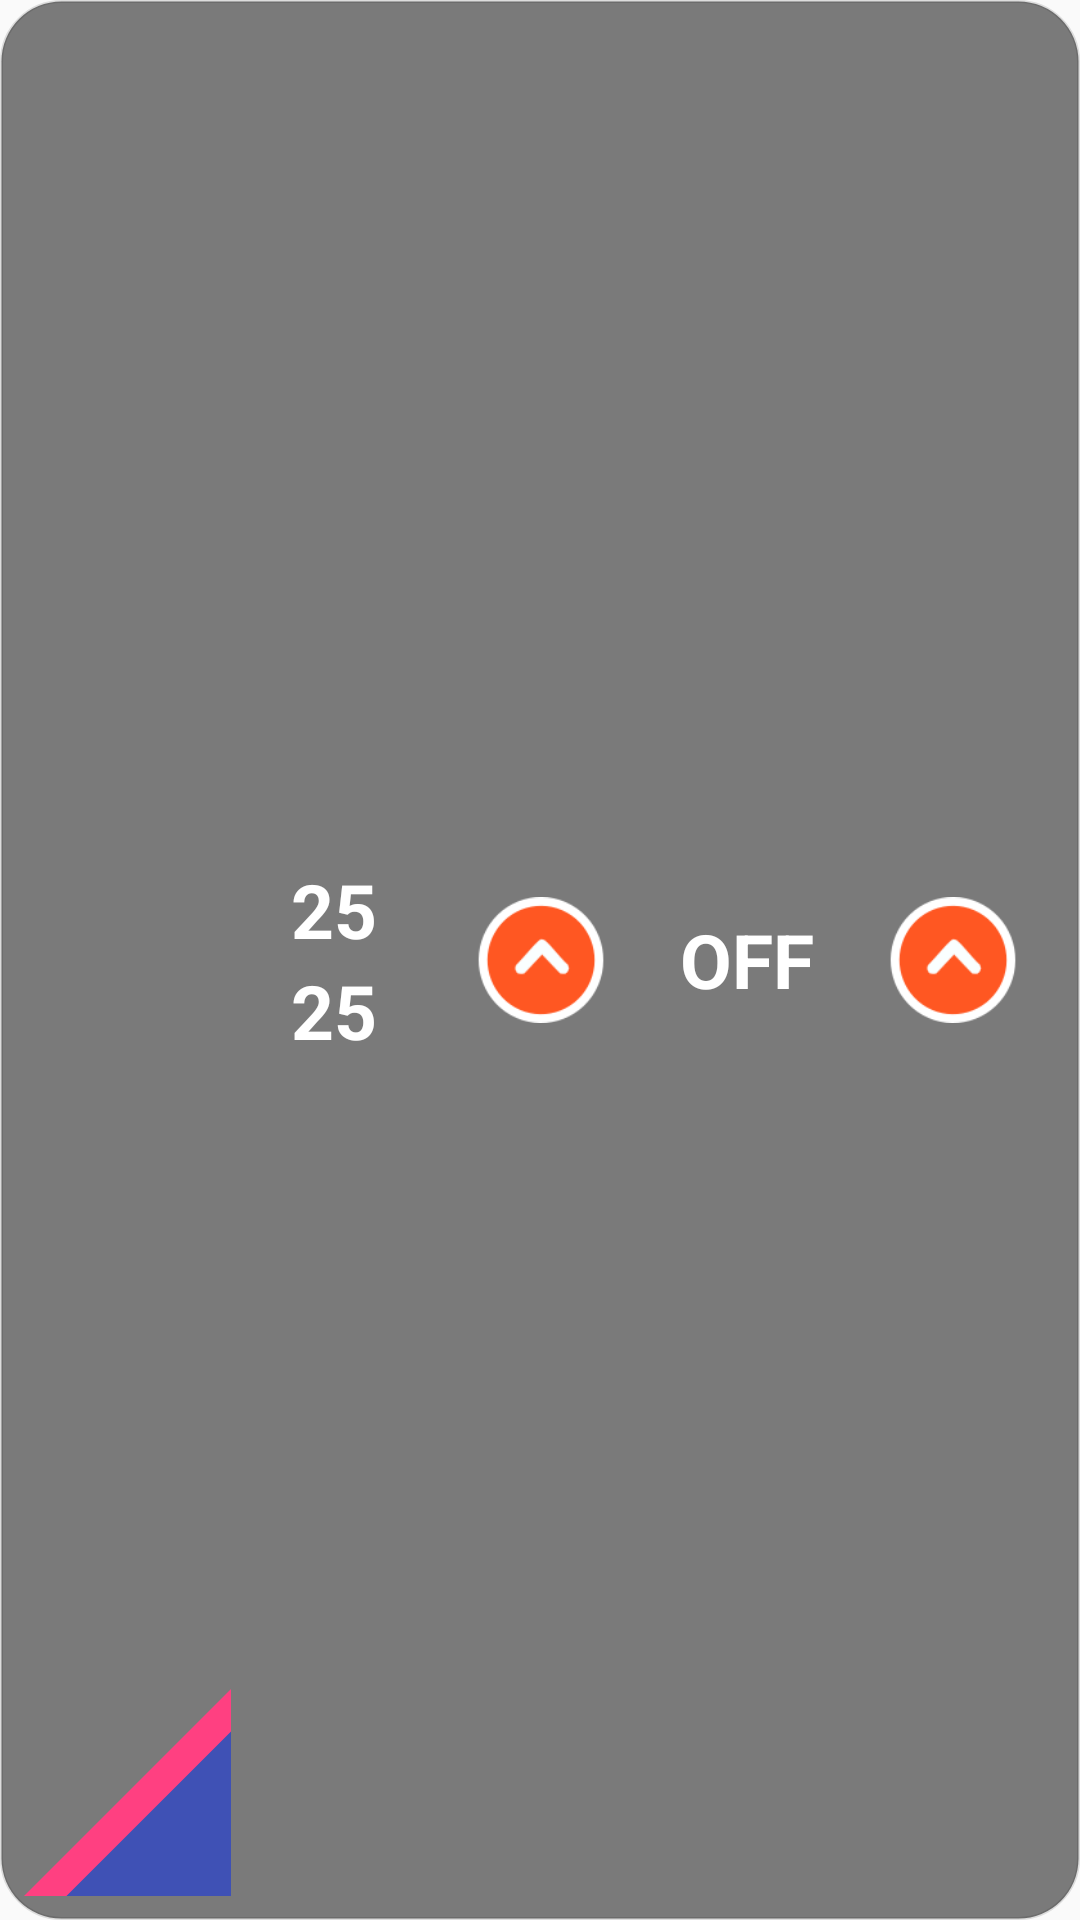

Locate icon controls on the screen. Image size 1080 x 1920, boxes as (x1, y1, x2, y2).
arrow: (478, 897, 604, 1023), (890, 897, 1016, 1023)
